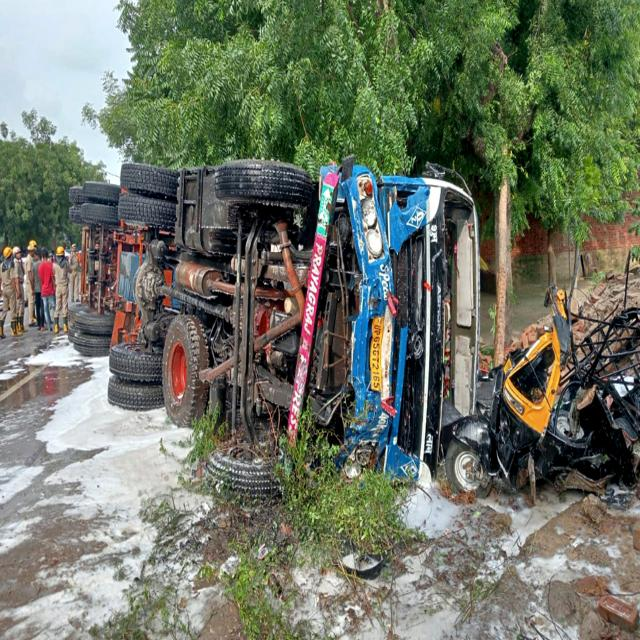accident: (68, 157, 480, 495), (442, 286, 640, 495), (516, 430, 519, 435)
